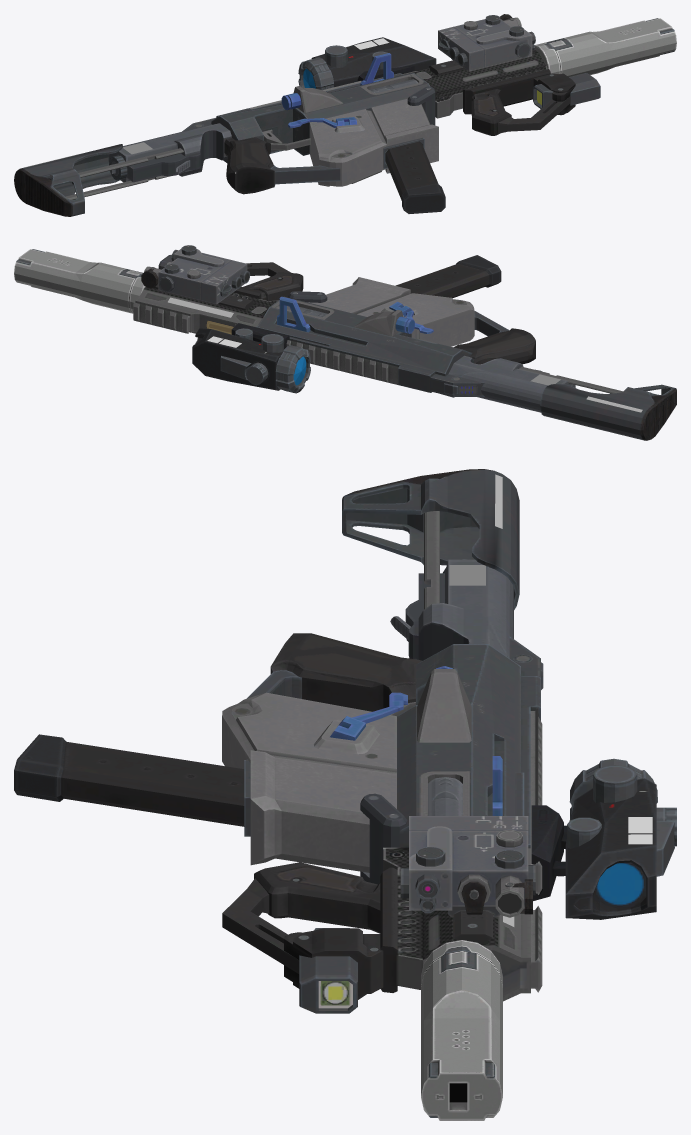
The picture shows the model from 3 angles, top to bottom: view 1: azimuth 30°, elevation 25°; view 2: azimuth 150°, elevation 25°; view 3: azimuth 270°, elevation 25°; orthographic projection. The views are drawn at different scales.
Visible parts, largest first — view 1: wp01a_a002a_sm.mo, wp01a_muzzle002a_sm.mo, wp01a_scope002a_sm.mo, wp01a_attach002a_sm.mo, wp01a_magazine002a_sm.mo; view 2: wp01a_a002a_sm.mo, wp01a_scope002a_sm.mo, wp01a_muzzle002a_sm.mo, wp01a_attach002a_sm.mo, wp01a_magazine002a_sm.mo; view 3: wp01a_a002a_sm.mo, wp01a_scope002a_sm.mo, wp01a_muzzle002a_sm.mo, wp01a_magazine002a_sm.mo, wp01a_attach002a_sm.mo.
Part boxes in pixels (x1,y1,x2,y2): wp01a_a002a_sm.mo: (14,46,600,216); wp01a_muzzle002a_sm.mo: (534,18,676,76); wp01a_scope002a_sm.mo: (298,37,436,89); wp01a_attach002a_sm.mo: (438,14,535,71); wp01a_magazine002a_sm.mo: (385,141,445,213); wp01a_a002a_sm.mo: (133,254,676,440); wp01a_scope002a_sm.mo: (192,323,310,393); wp01a_muzzle002a_sm.mo: (14,249,145,313); wp01a_attach002a_sm.mo: (141,245,250,304); wp01a_magazine002a_sm.mo: (395,255,501,298); wp01a_a002a_sm.mo: (222,469,543,1013); wp01a_scope002a_sm.mo: (531,758,676,919); wp01a_muzzle002a_sm.mo: (421,940,502,1120); wp01a_magazine002a_sm.mo: (14,734,244,826); wp01a_attach002a_sm.mo: (400,816,535,917).
Size of the model in its own units: 0.6966 by 0.093 by 0.3258.
Materials: 7 (5 with a texture image).
